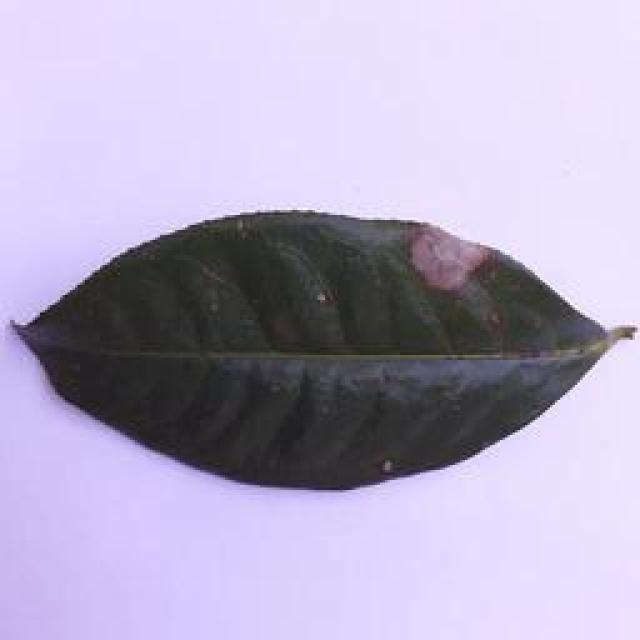Gray Blight: (5, 208, 640, 494)
